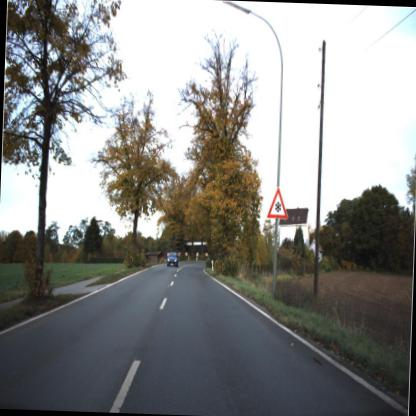danger: (262, 186, 290, 224)
